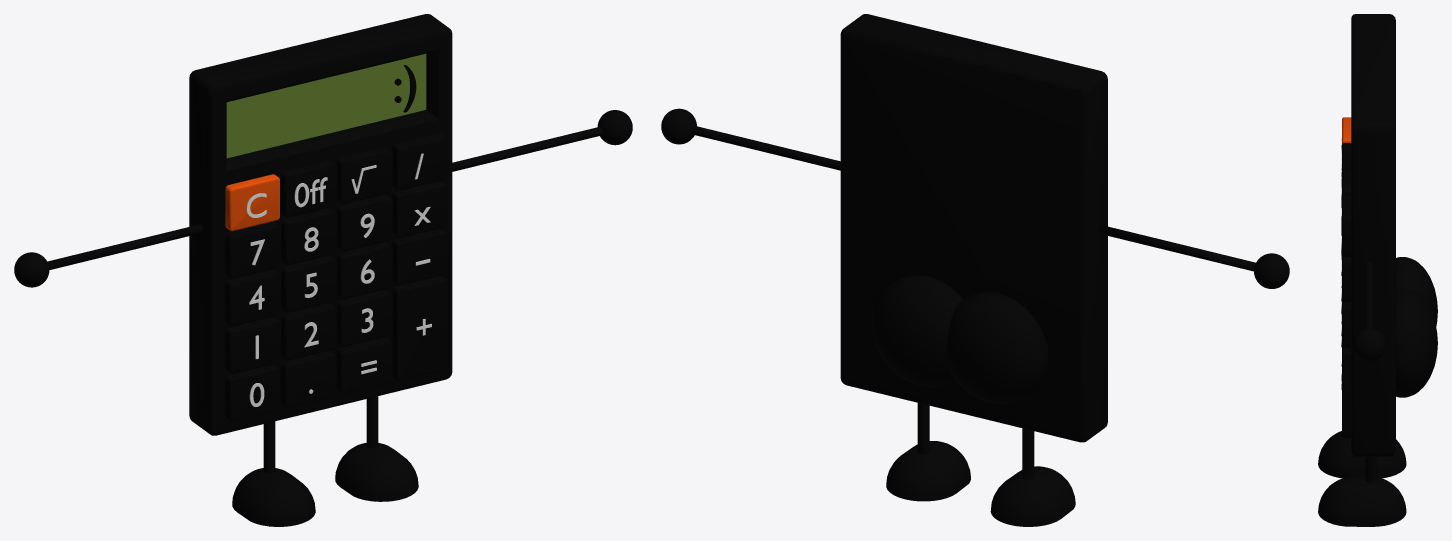
File: калькулятор смешной.fbx
3 renders of one model, left to right at view 1: azimuth 30°, elevation 25°; view 2: azimuth 150°, elevation 25°; view 3: azimuth 270°, elevation 25°, orthographic. The views are drawn at different scales.
Visible parts, largest first — view 1: Text.011, Cube.001, Sphere.002, Sphere.001, Cylinder.001, Cylinder; view 2: Cube.001, Sphere, Sphere.002, Sphere.001, Cylinder.001, Cylinder; view 3: Cube.001, Sphere, Sphere.002, Text.011, Sphere.001, Cylinder.
Boxes of the visible parts, bbox=[...] form: Text.011: bbox=[225, 133, 447, 421]; Cube.001: bbox=[189, 14, 452, 435]; Sphere.002: bbox=[335, 396, 418, 501]; Sphere.001: bbox=[232, 421, 315, 526]; Cylinder.001: bbox=[14, 224, 203, 287]; Cylinder: bbox=[452, 110, 632, 171]; Cube.001: bbox=[840, 14, 1107, 442]; Sphere: bbox=[871, 275, 1048, 403]; Sphere.002: bbox=[886, 403, 970, 501]; Sphere.001: bbox=[990, 428, 1075, 526]; Cylinder.001: bbox=[1097, 225, 1289, 288]; Cylinder: bbox=[661, 108, 840, 170]; Cube.001: bbox=[1351, 14, 1395, 456]; Sphere: bbox=[1396, 257, 1437, 397]; Sphere.002: bbox=[1318, 457, 1406, 526]; Text.011: bbox=[1341, 117, 1351, 438]; Sphere.001: bbox=[1318, 431, 1406, 478]; Cylinder: bbox=[1352, 262, 1385, 361].
Bounding box in the file's own units: 1907 × 1312 × 339.
